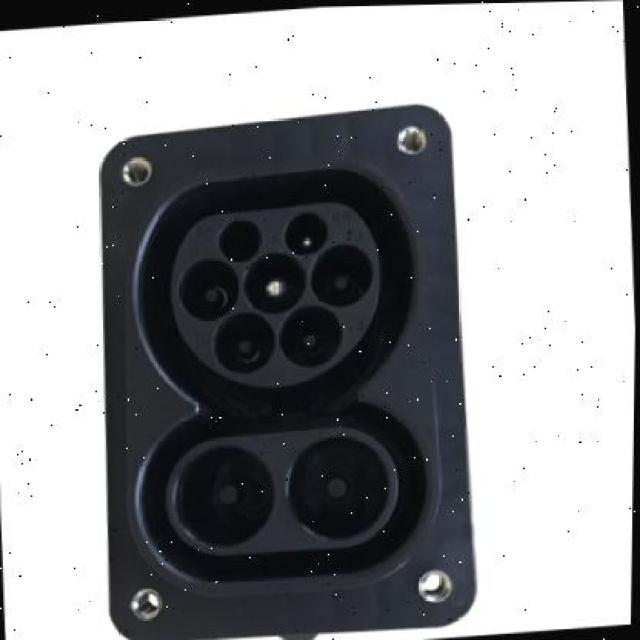CCS2: (102, 161, 445, 597)
